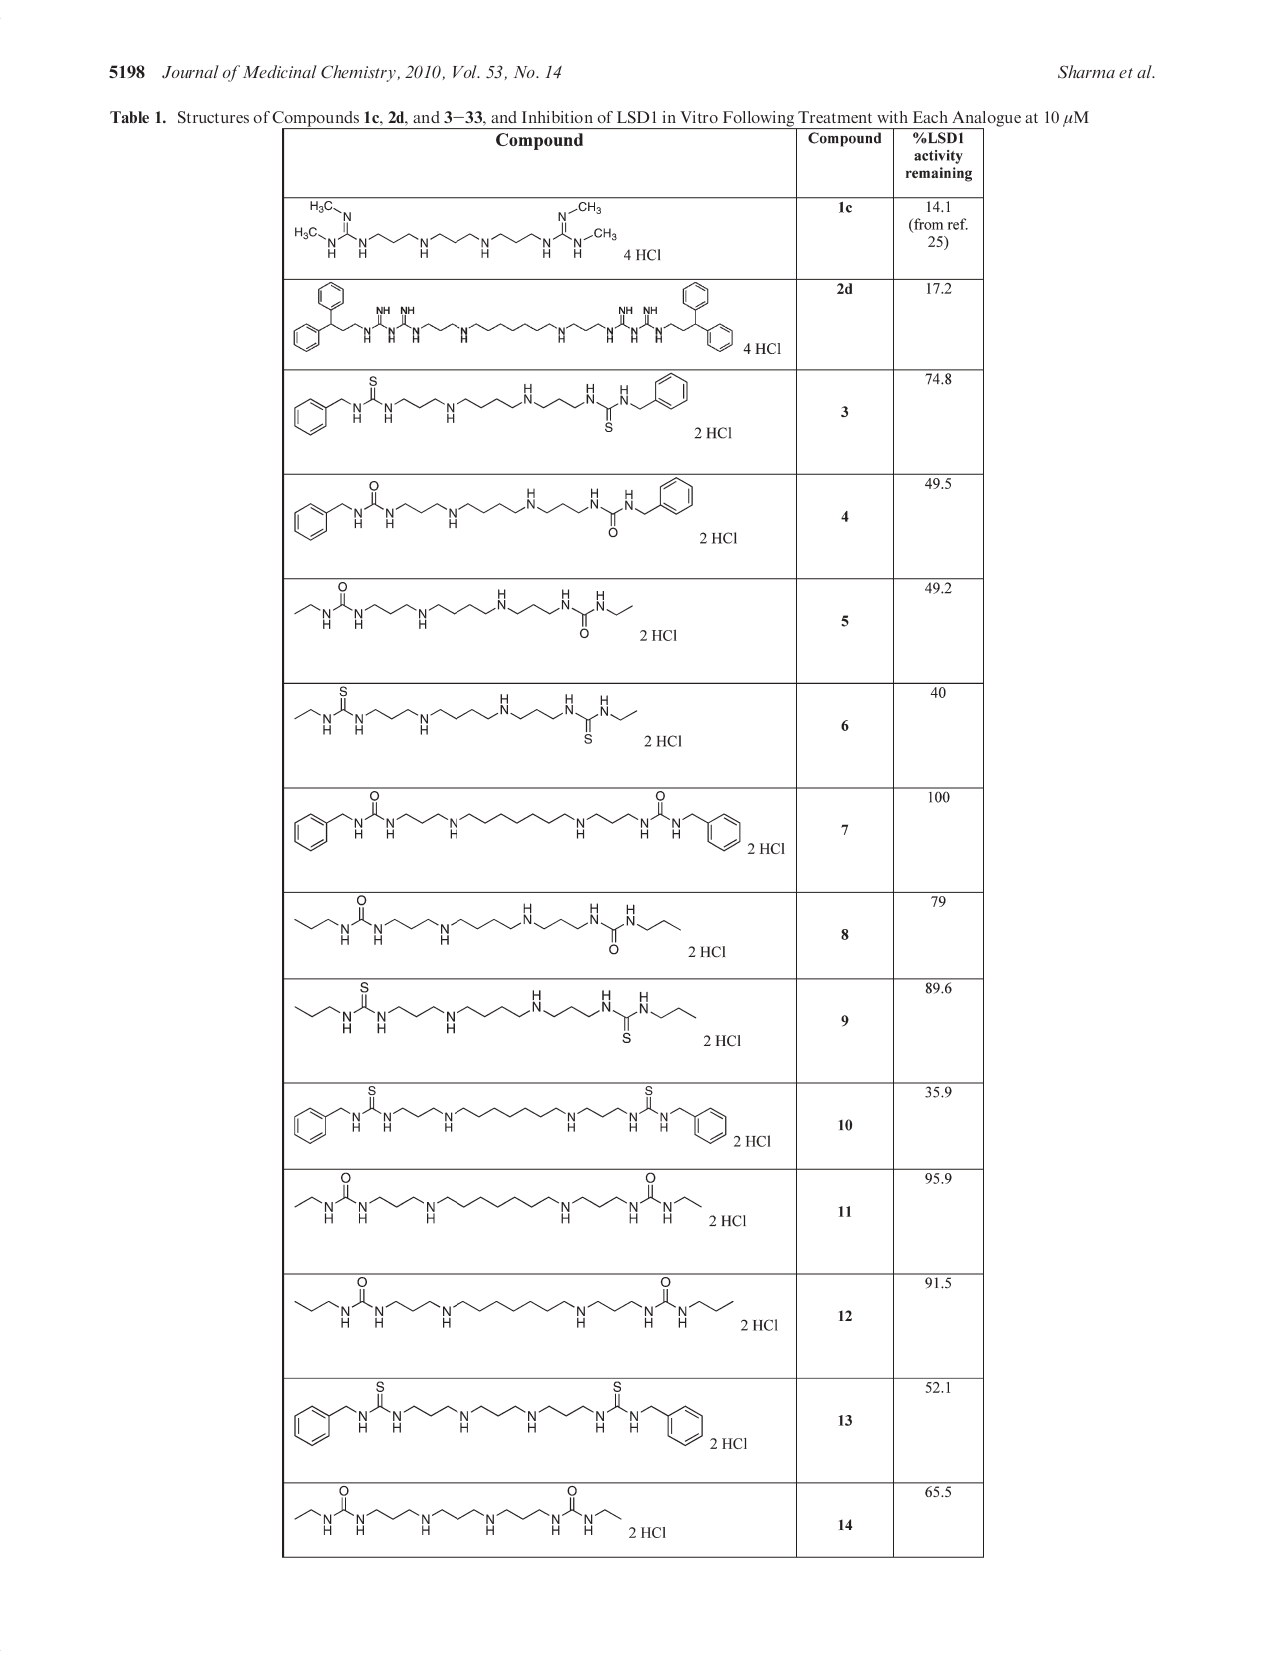exist_molecular: (293, 282, 735, 352), (290, 1380, 707, 1454), (293, 789, 743, 852), (291, 475, 696, 543), (294, 1087, 731, 1148), (290, 372, 692, 436), (294, 892, 681, 956), (294, 1274, 734, 1330), (294, 1170, 703, 1230), (293, 977, 703, 1035), (293, 1484, 672, 1544), (289, 199, 618, 265), (294, 584, 646, 638), (295, 686, 644, 735)
